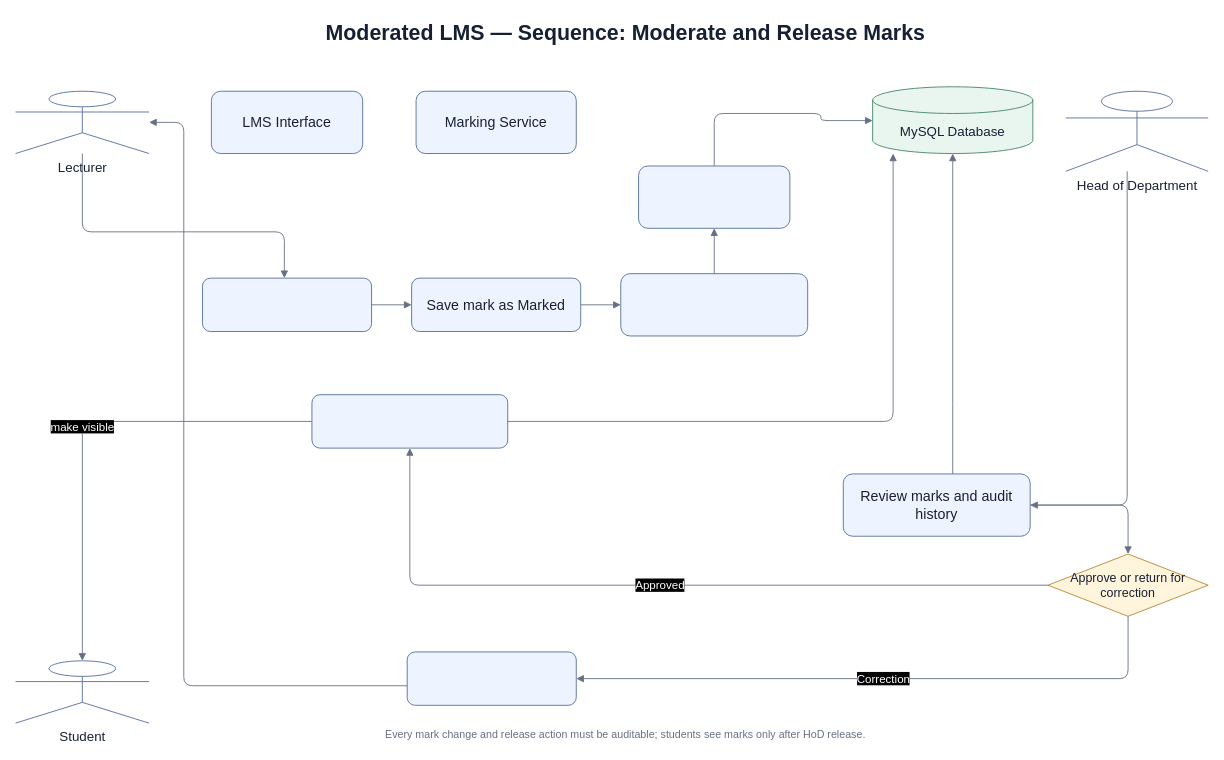
This 1224x760 diagram has some shape labels left out. The box of each missing label's shape, as (x1, y1, x2, y2) in pixels:
Audit Service: (638, 165, 790, 228)
Enter mark and feedback: (202, 277, 372, 332)
Record actor, time, old/new mark, reason: (620, 273, 808, 336)
Release approved marks: (311, 394, 508, 448)
Return for correction: (406, 651, 576, 705)
